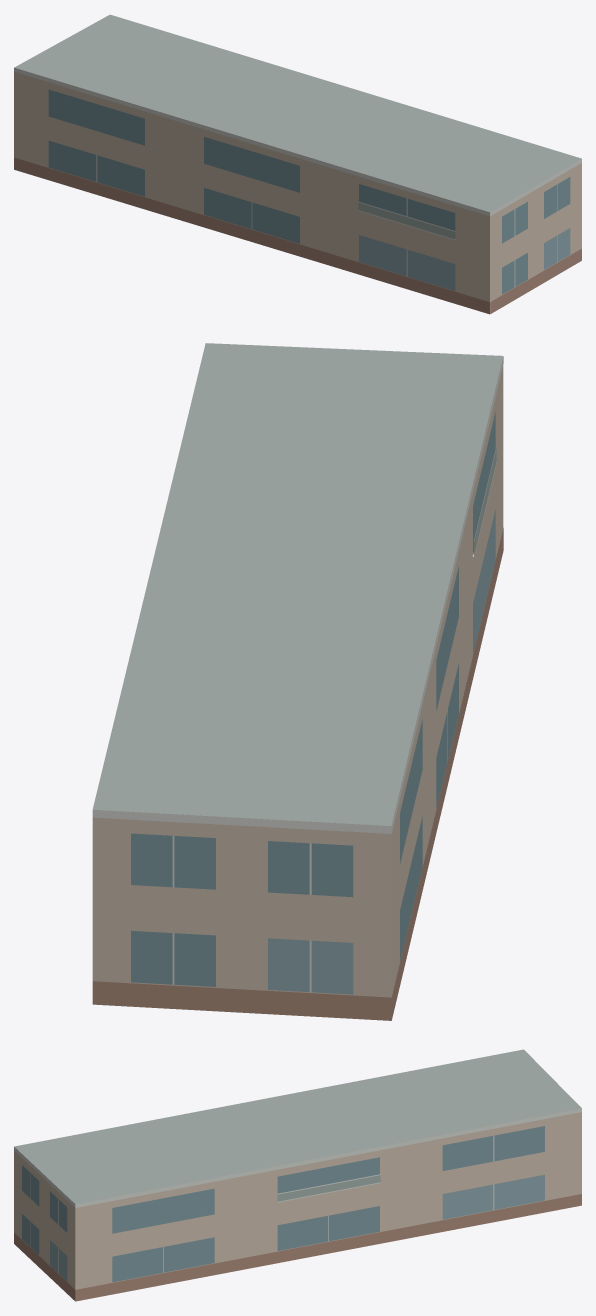
File: survey-upis-32571641.glb
The picture shows the model from 3 angles, top to bottom: view 1: azimuth 30°, elevation 25°; view 2: azimuth 150°, elevation 25°; view 3: azimuth 270°, elevation 25°; orthographic projection. The views are drawn at different scales.
Parts seen in each view (by area): view 1: survey-upis-32571641.tmp; view 2: survey-upis-32571641.tmp; view 3: survey-upis-32571641.tmp.
Boxes of the visible parts, x1,y1,x2,y2 form: survey-upis-32571641.tmp: [14, 14, 581, 314]; survey-upis-32571641.tmp: [92, 343, 503, 1020]; survey-upis-32571641.tmp: [14, 1049, 581, 1301].
Size of the model in its own units: 20.81 by 6.1 by 32.26.
